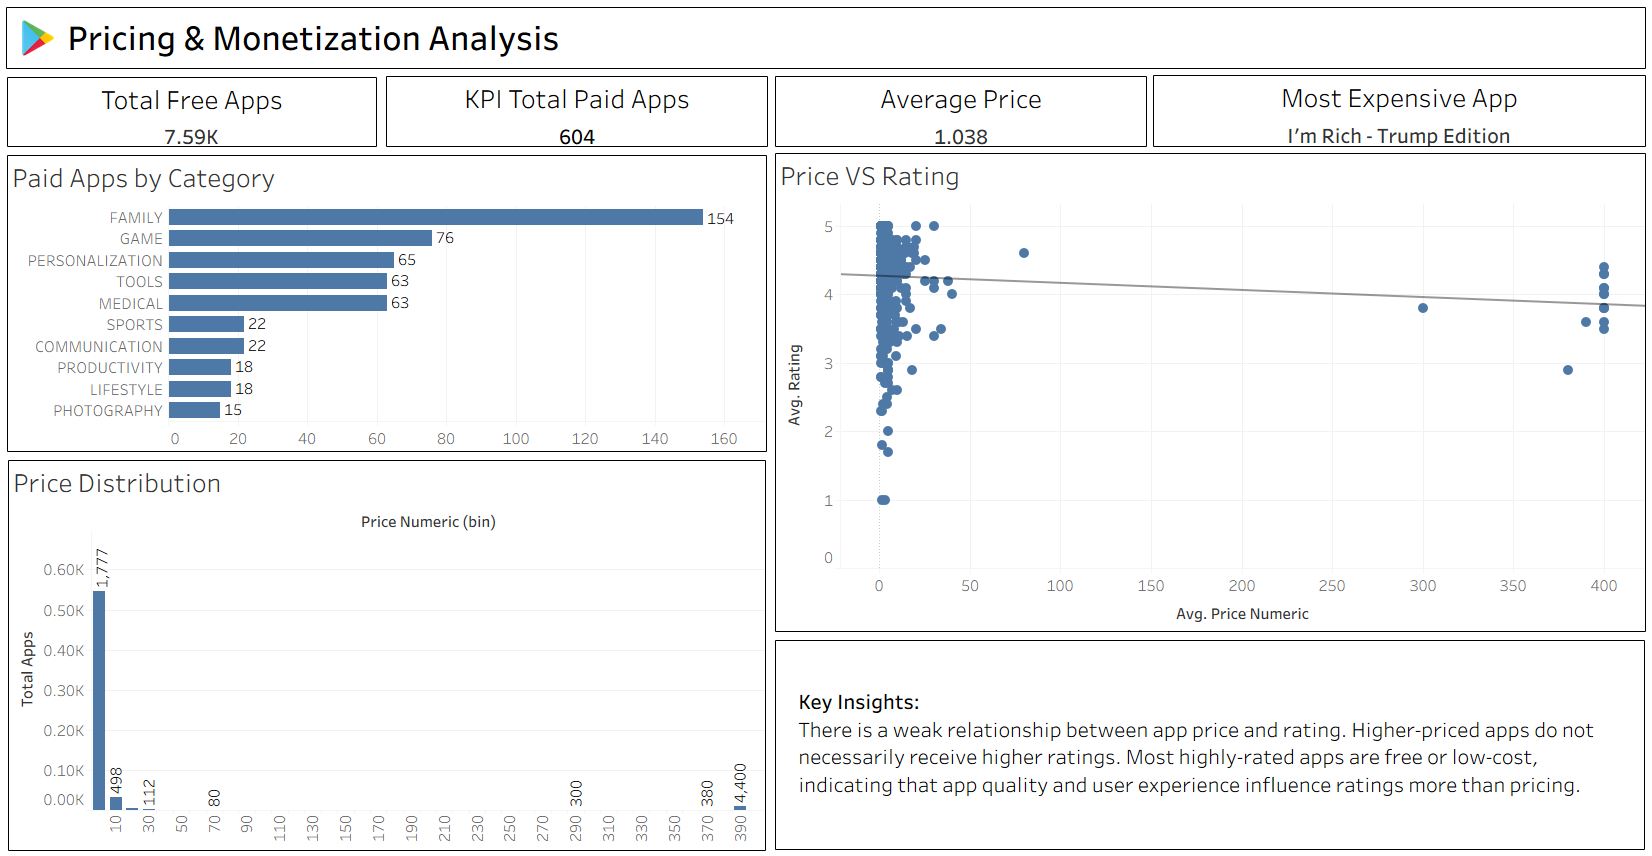

The dashboard page shown, as its layout file describes it:
{"tool":"tableau","page":{"name":"Pricing & Monetization Analysis","canvas":[1000,1000],"units":"permille","ordinal":2},"visuals":[{"type":"text","box":[39.8,16.3,414.6,55.8]},{"type":"image","param":"C:/Users/DELL/Downloads/google-play-logo-png_seeklogo-318439-removebg-preview.pn","box":[12.1,23.2,35,45.3]},{"type":"worksheet","title":"Most Expensive App","mark":"Automatic","box":[697,89.4,297.5,83.6]},{"type":"worksheet","title":"KPI Total Paid Apps","mark":"Automatic","box":[234.2,90.6,230.5,82.5]},{"type":"worksheet","title":"KPI Average Price","mark":"Text","box":[468.9,90.6,224.5,82.5]},{"type":"worksheet","title":"KPI Total Free Apps","mark":"Text","box":[5.4,91.8,223.3,81.3]},{"type":"worksheet","title":"Price VS Rating","mark":"Circle","rows":["Rating"],"cols":["Calculation_0669654712299523"],"box":[468.9,180,525.6,556.3]},{"type":"worksheet","title":"Paid Apps by Category","mark":"Automatic","rows":["Category"],"cols":["Calculation_0998958023516167"],"box":[5.4,182.3,458.7,344.9]},{"type":"worksheet","title":"Price Distribution","mark":"Bar","rows":["Calculation_0998958022668289"],"cols":["Price Numeric (bin)"],"box":[6,536.6,457.4,454.1]},{"type":"text","box":[481,759.6,508.8,212.5]}]}

Visuals, with their boxes on the dashboard's canvas, which has no fixed pixel size, in thousandths of its width and height (x1, y1, x2, y2). These are canvas units, not pixel positions in the 1652x856 screenshot, which may show the page scaled, cropped or inside an application window:
text: (40,16,454,72)
image: (12,23,47,68)
"Most Expensive App" worksheet: (697,89,994,173)
"KPI Total Paid Apps" worksheet: (234,91,465,173)
"KPI Average Price" worksheet (Text marks): (469,91,693,173)
"KPI Total Free Apps" worksheet (Text marks): (5,92,229,173)
"Price VS Rating" worksheet (Circle marks): (469,180,994,736)
"Paid Apps by Category" worksheet: (5,182,464,527)
"Price Distribution" worksheet (Bar marks): (6,537,463,991)
text: (481,760,990,972)
